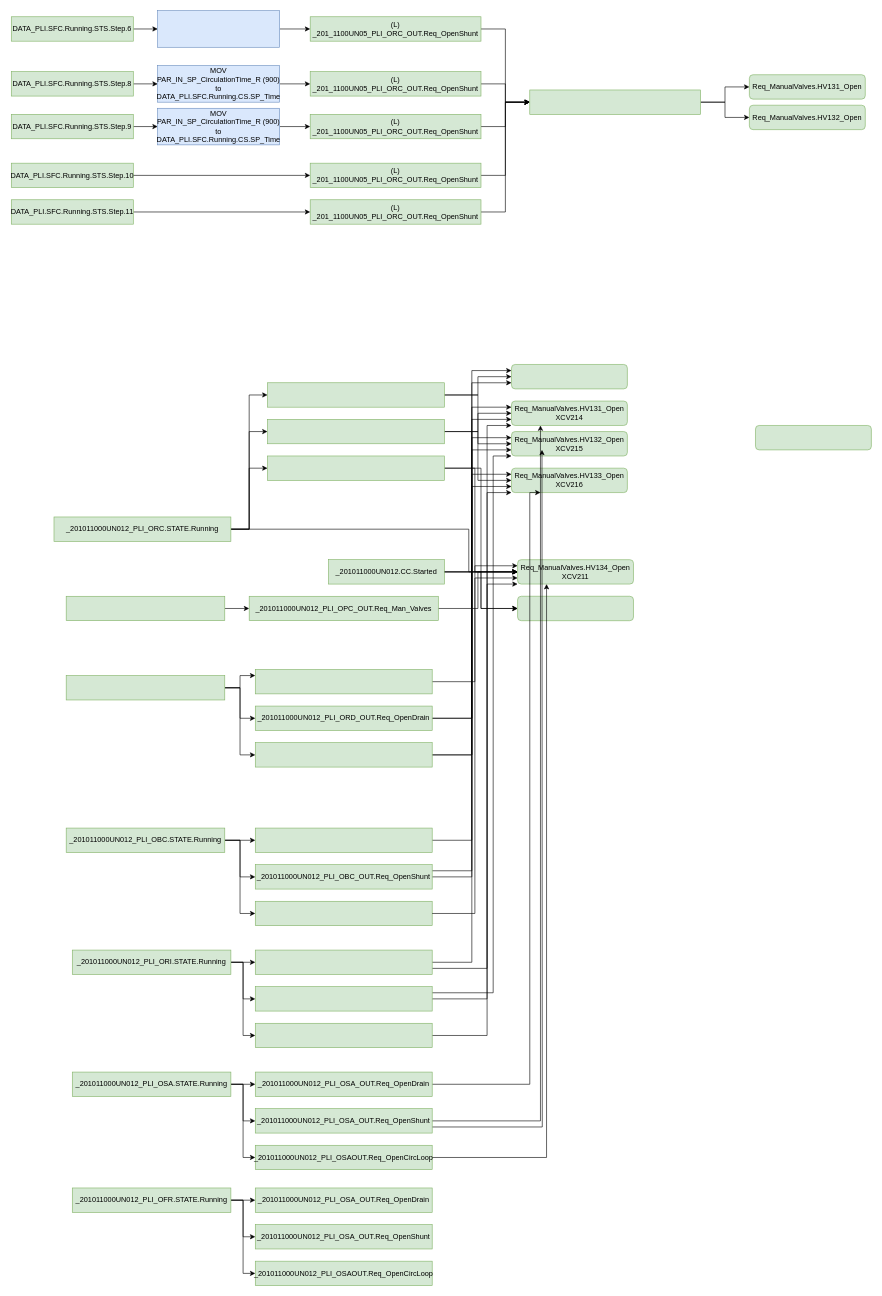
The diagram is 882 pixels wide and 1296 high, and some of its shapes have lost their labels. Here are the shapes that lost their labels. From the top down, the box of each, then its label:
(157, 10, 280, 47): MOV PAR_IN_SP_CirculationTime_F (900) to DATA_PLI.SFC.Running.CS.SP_Time
(529, 89, 701, 114): _201_1100UN05_PLI_ORC_OUT.Req_OpenShunt
(267, 382, 444, 407): _201011000UN012_PLI_ORC_OUT.Req_OpenDrain
(511, 364, 627, 389): Req_ManualValves.HV130_Open Дренажный ручной кран(522)
(267, 419, 444, 444): _201011000UN012_PLI_ORC_OUT.Req_OpenShunt
(755, 425, 871, 450): Req_ManualValves.HV134_Open XCV216
(267, 455, 444, 480): _201011000UN012_PLI_ORC_OUT.Req_OpenCircLoop
(66, 596, 225, 621): _201011000UN012_PLI_OPC.STATE.Running
(517, 596, 633, 621): Req_ManualValves.HV135_Open XCV212
(66, 675, 225, 700): _201011000UN012_PLI_ORD.STATE.Running
(255, 669, 432, 694): _201_1100UN05_PLI_ORD_OUT.Req_OpenCircLoop
(255, 742, 432, 767): _201011000UN012_PLI_ORD_OUT.Req_OpenShunt
(255, 827, 432, 852): _201011000UN012_PLI_OBC_OUT.Req_OpenDrain
(255, 901, 432, 926): _201011000UN012_PLI_OBC_OUT.Req_OpenCircLoop
(255, 949, 432, 974): _201011000UN012_PLI_ORI_OUT.Req_OpenDrain
(255, 986, 432, 1011): _201011000UN012_PLI_ORI_OUT.Req_OpenShunt
(255, 1023, 432, 1048): _201011000UN012_PLI_ORI_OUT.Req_OpenCircLoop
